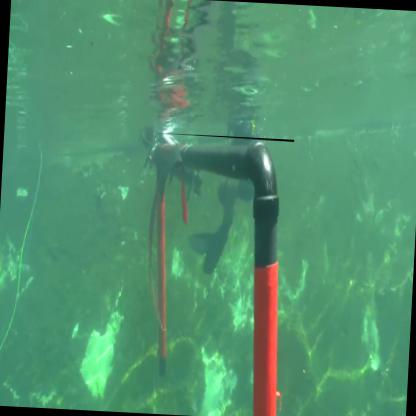gate: (139, 133, 296, 416)
